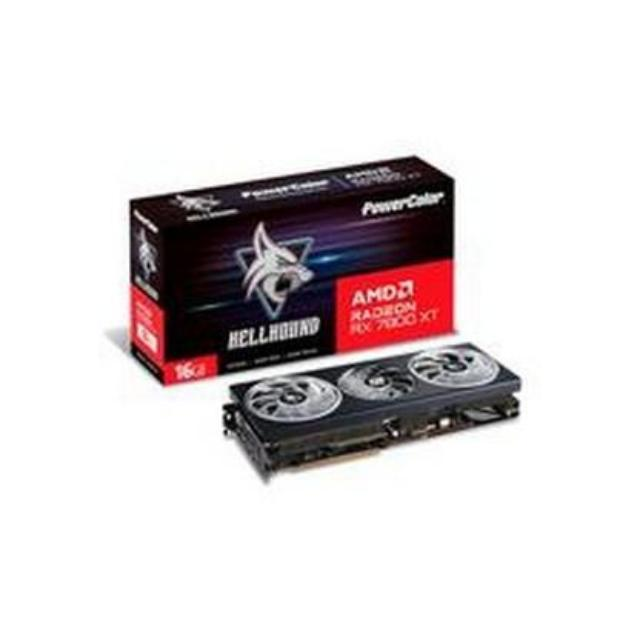GPU: (226, 338, 529, 476)
